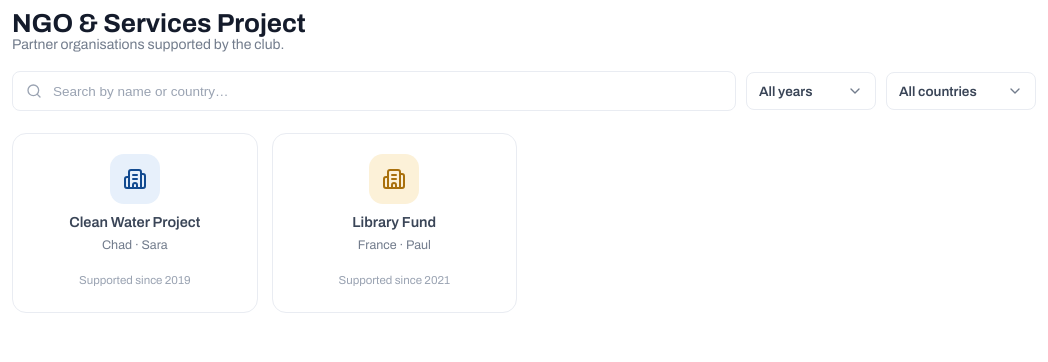
Test case: OrganisationsList › Rotary year filter with planned donations › shows both an actual and a planned badge, never merged
Click the button with aria-label "Rotary year". click: (811, 91)
box: [746,72,876,110]
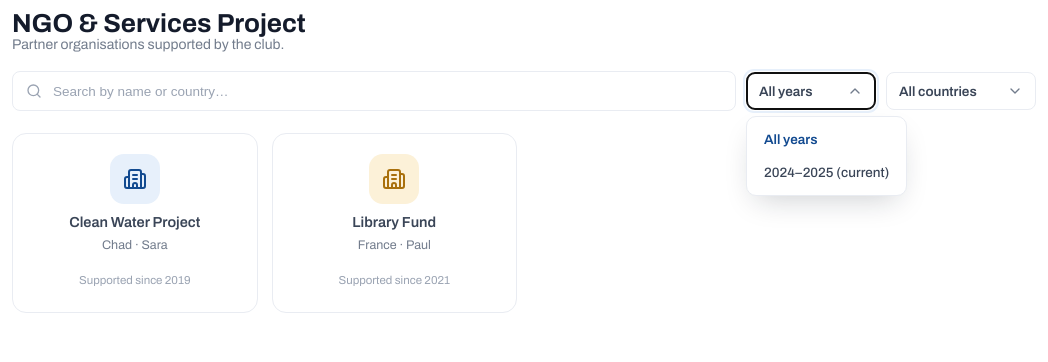
Click the option "2024–2025 (current)". click: (827, 173)
box: [753,156,900,189]
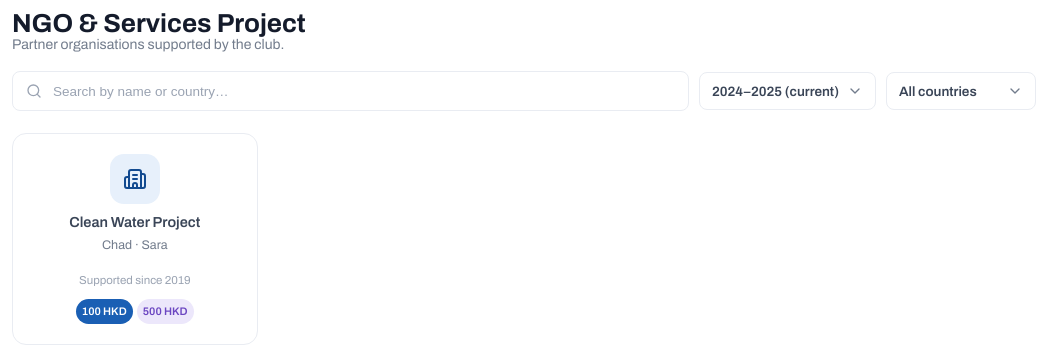
Check: the text "100 HKD" is shown, box [76,299,133,324]
